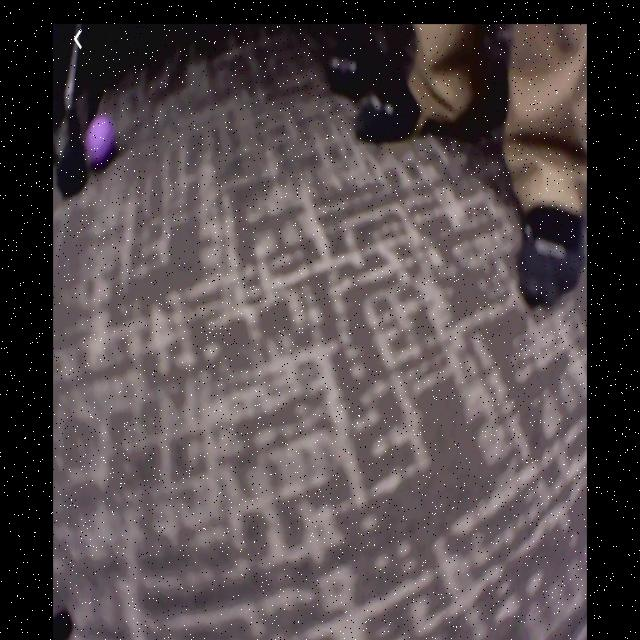ball: (85, 114, 115, 163)
